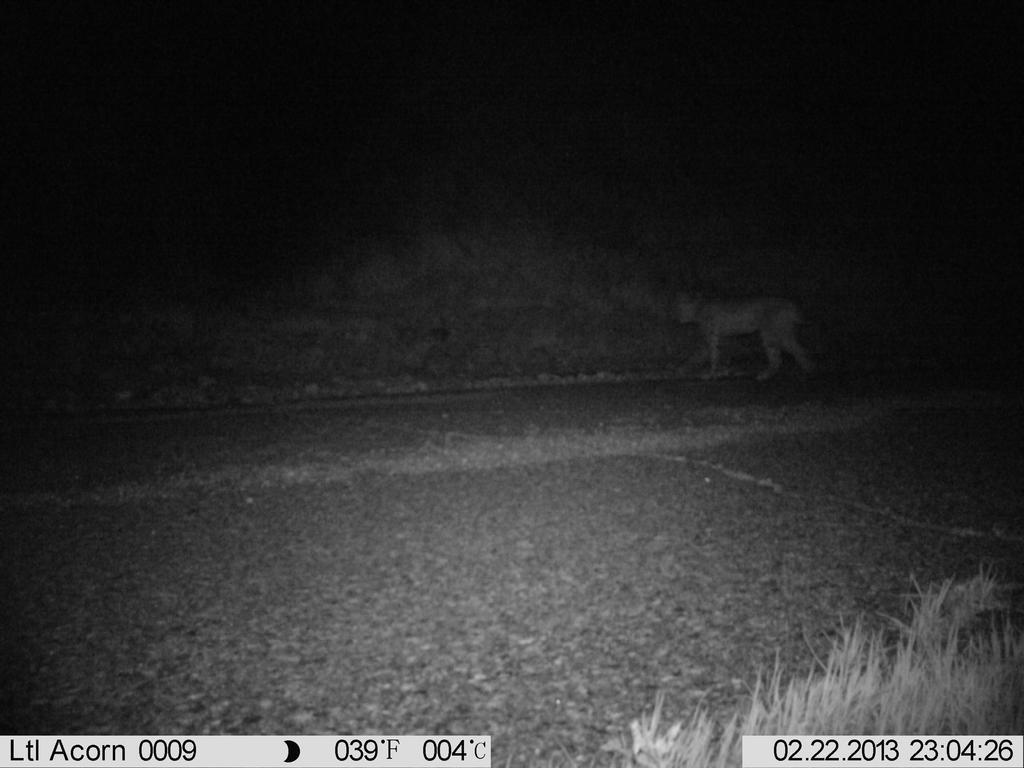bobcat: (657, 278, 834, 395)
